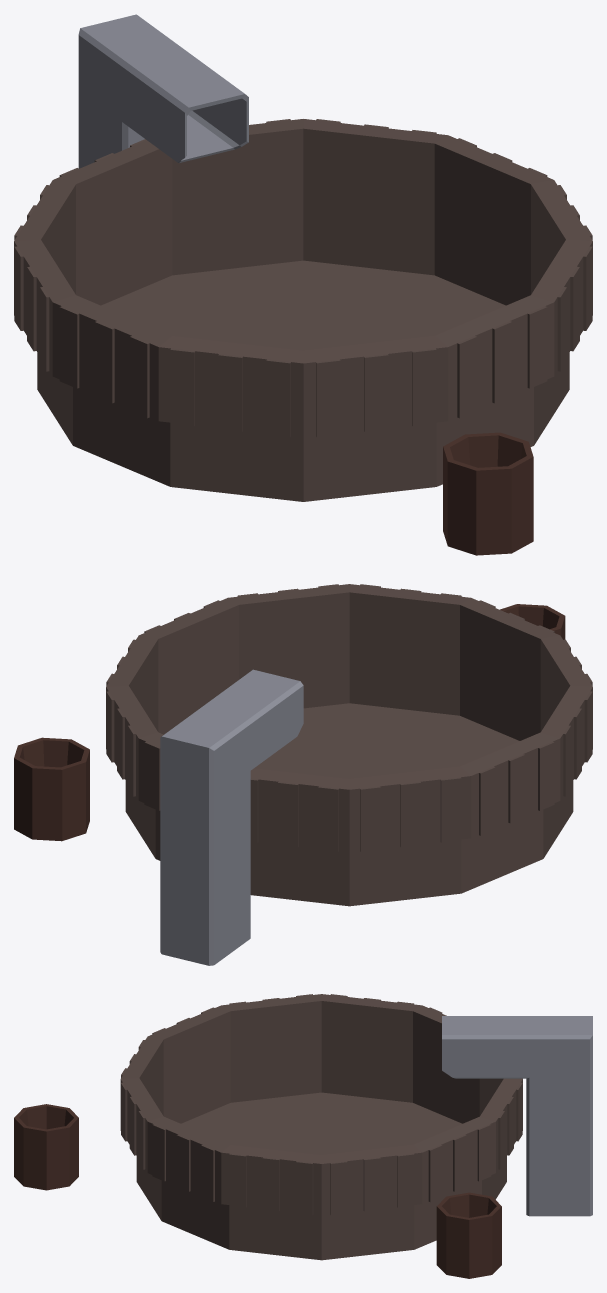
Rendered from Onsen_Wood.fbx.
The picture shows the model from 3 angles, top to bottom: view 1: azimuth 30°, elevation 25°; view 2: azimuth 150°, elevation 25°; view 3: azimuth 270°, elevation 25°; orthographic projection. The views are drawn at different scales.
Visible parts, largest first — view 1: Onsen; view 2: Onsen; view 3: Onsen.
Boxes of the visible parts, x1,y1,x2,y2 form: Onsen: (14,14,592,555); Onsen: (14,584,592,965); Onsen: (14,994,592,1278).
Bounding box in the file's own units: 523 × 240 × 700.
